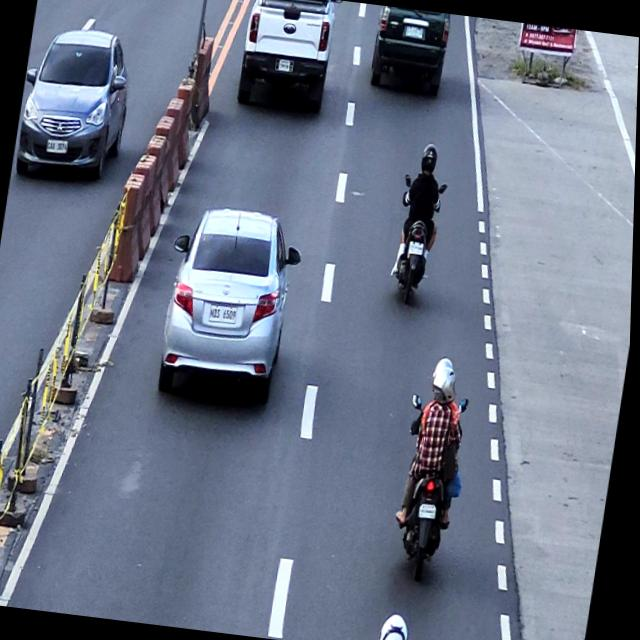Car: (153, 200, 309, 407), (12, 22, 138, 185), (230, 0, 342, 118), (368, 5, 451, 95)
License-Plate: (209, 303, 239, 323), (45, 137, 70, 155), (420, 502, 440, 520), (404, 23, 424, 41), (409, 240, 425, 256), (276, 58, 292, 73)
Motorcycle: (388, 390, 472, 584), (387, 173, 449, 306)
